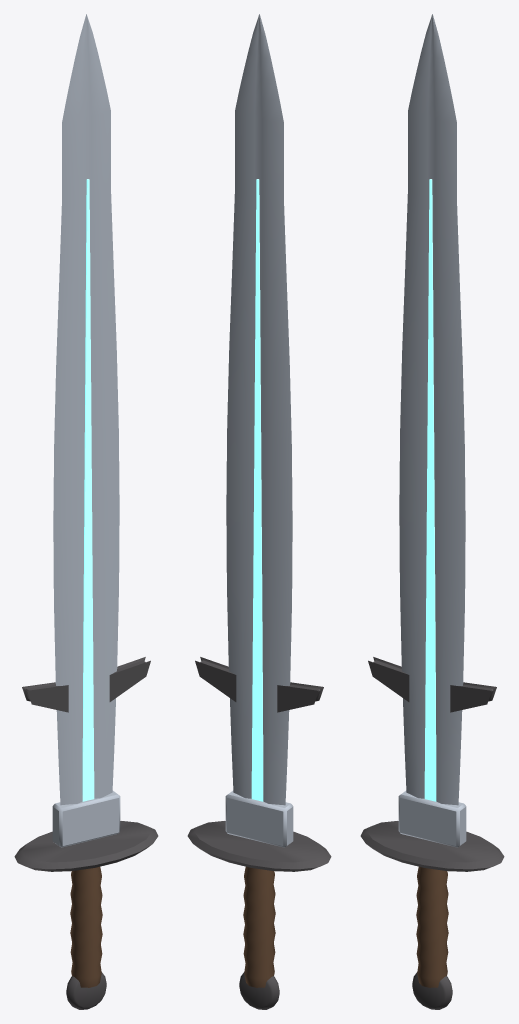
The model's file is depth_deepwatch_messer.glb.
The picture shows the model from 3 angles, left to right: view 1: azimuth 30°, elevation 25°; view 2: azimuth 150°, elevation 25°; view 3: azimuth 330°, elevation 25°; orthographic projection.
Visible parts, largest first — view 1: depth_deepwatch_messer; view 2: depth_deepwatch_messer; view 3: depth_deepwatch_messer.
Boxes of the visible parts, box(x1,y1,x2,y2) form: depth_deepwatch_messer: box(14, 14, 158, 1009); depth_deepwatch_messer: box(187, 14, 331, 1009); depth_deepwatch_messer: box(360, 14, 504, 1009).
Size of the model in its own units: 0.182 by 1.26 by 0.0986.
